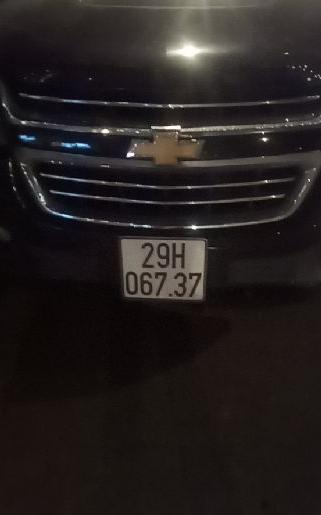Plate-iWeP: (121, 236, 207, 303)
